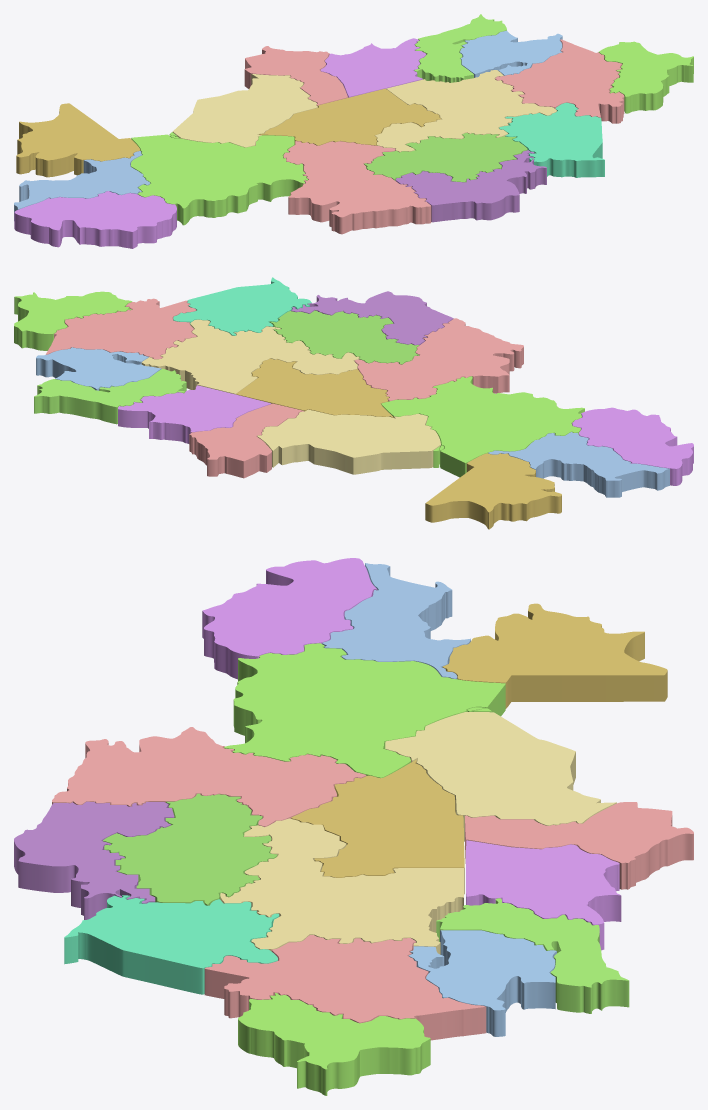
The model's file is KZmap2.glb.
The picture shows the model from 3 angles, top to bottom: view 1: azimuth 30°, elevation 25°; view 2: azimuth 150°, elevation 25°; view 3: azimuth 270°, elevation 25°; orthographic projection. The views are drawn at different scales.
Visible parts, largest first — view 1: GreasePencil; view 2: GreasePencil; view 3: GreasePencil.
Boxes of the visible parts, box(x1,y1,x2,y2) form: GreasePencil: box(14, 14, 693, 248); GreasePencil: box(14, 277, 693, 529); GreasePencil: box(14, 558, 693, 1095).
Size of the model in its own units: 4.98 by 0.1205 by 2.8.
